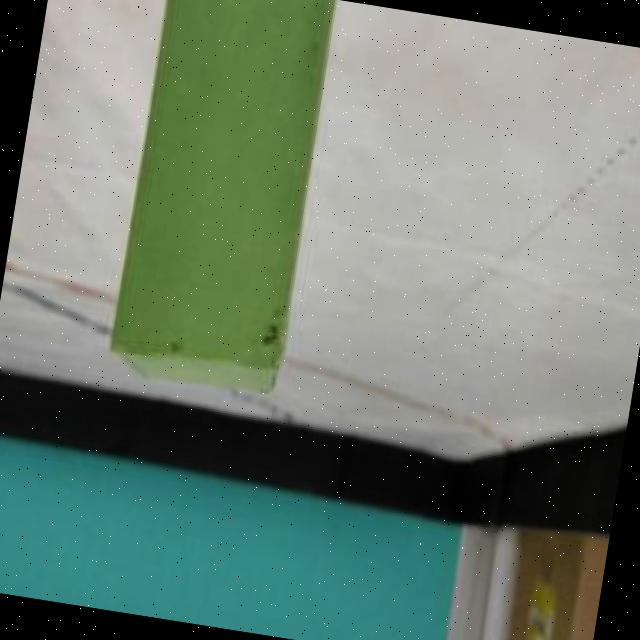greenbox: (108, 0, 337, 398)
